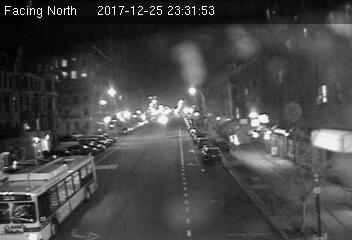bus: (1, 153, 97, 240)
car: (201, 145, 220, 161)
